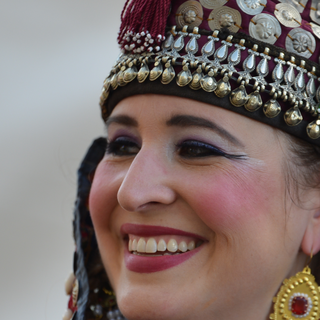eye: (176, 138, 231, 163), (103, 132, 143, 160)
